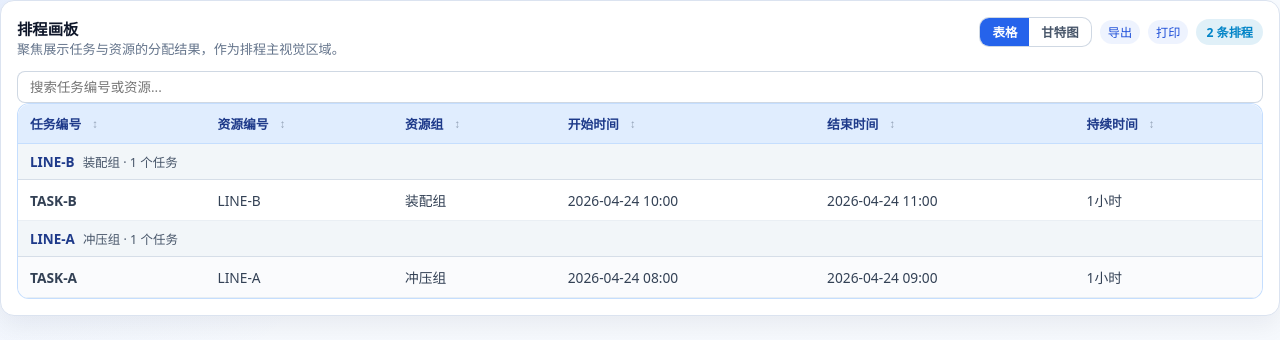
Test case: ScheduleBoard › 点击清除排序按钮恢复分组展示
Step 1. Click the column heading with test id "sort-header-taskId" → click(112, 124), box [18,104,206,144]
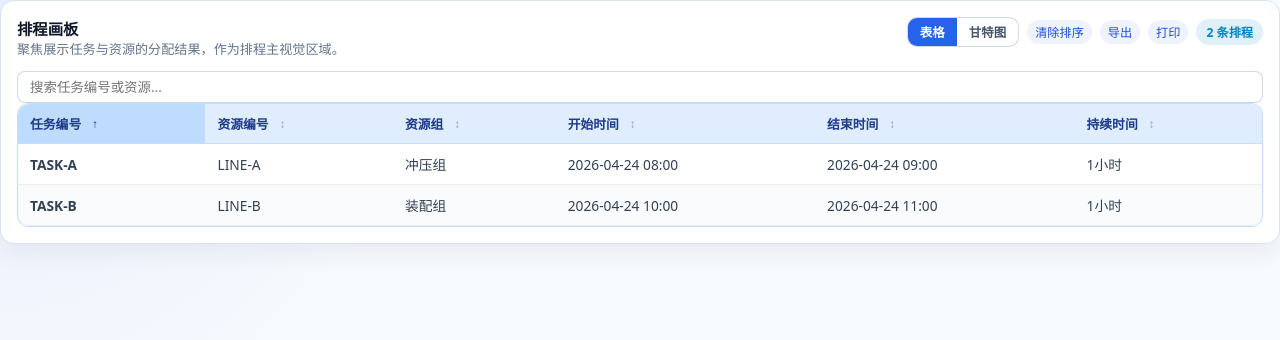
Step 2. Click the button with test id "clear-sort" → click(1060, 32), box [1027,20,1092,44]
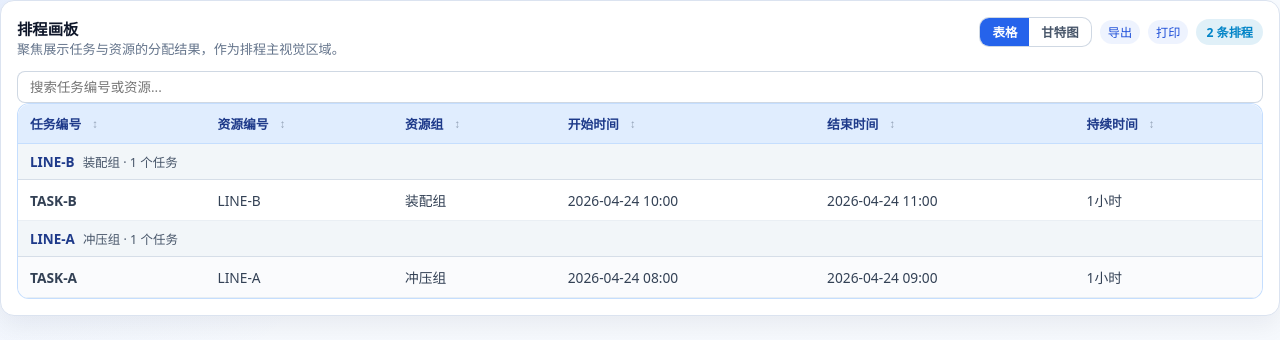
Expected: the 2nd row is shown, [18,144,1262,180]
